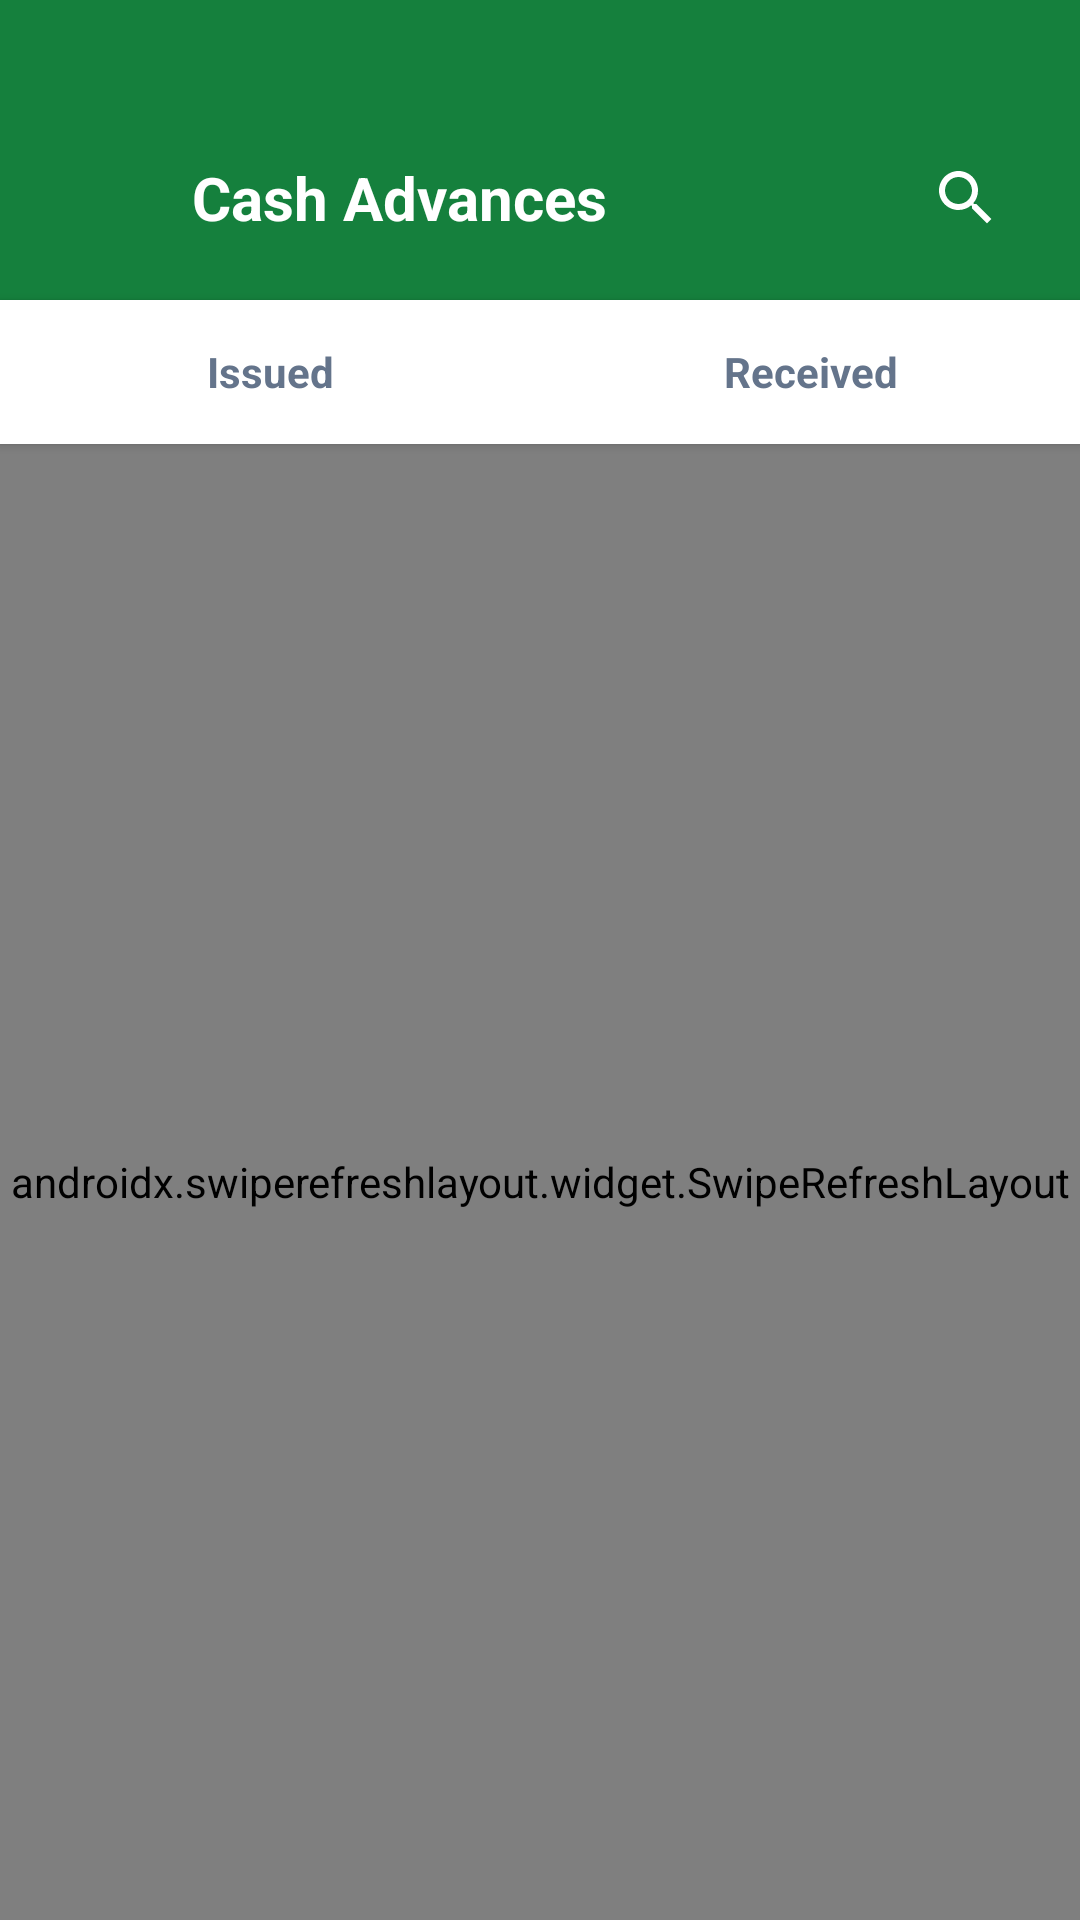

Screen size 1080×1920. Icon name, then its center in pixels as (x,y):
Search: (965,197)
